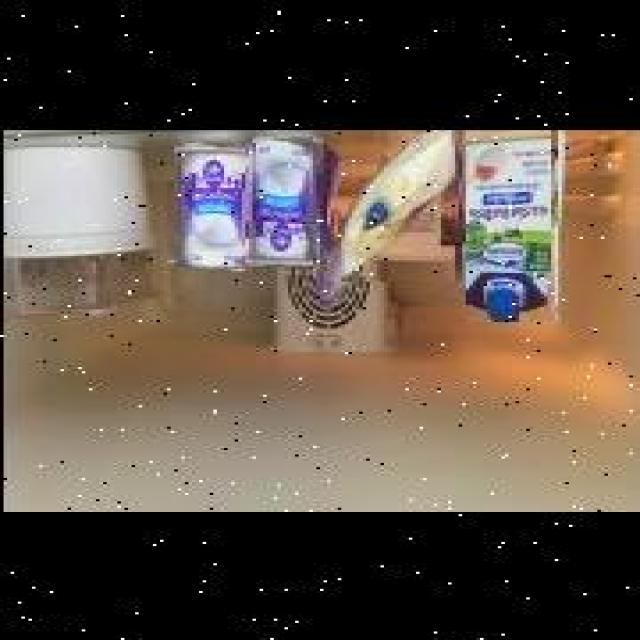grated_cheese: (327, 128, 459, 279)
heavy_cream: (466, 128, 554, 320)
yogurt: (176, 140, 247, 266), (252, 134, 316, 264)
